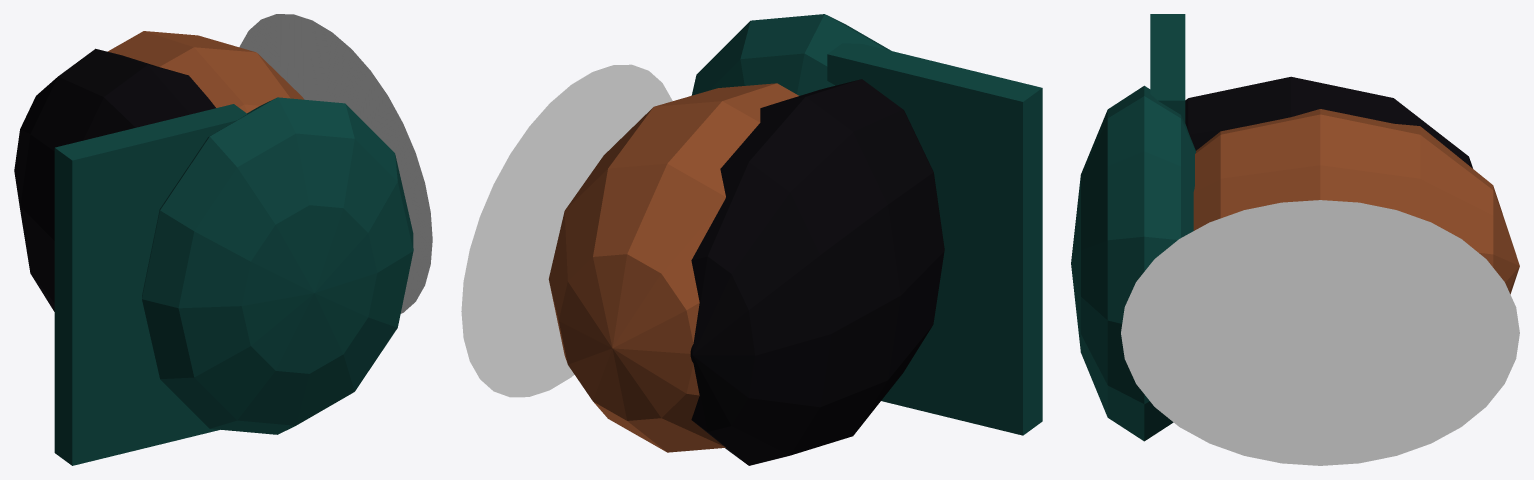
File: Resident3Head.obj
3 views of the same model, side by side, from view 1: azimuth 30°, elevation 25°; view 2: azimuth 150°, elevation 25°; view 3: azimuth 270°, elevation 25° (orthographic). The views are drawn at different scales.
Visible parts, largest first — view 1: Resident3Head; view 2: Resident3Head; view 3: Resident3Head.
Part boxes in pixels (x1,y1,x2,y2): Resident3Head: [14, 14, 432, 465]; Resident3Head: [461, 14, 1042, 465]; Resident3Head: [1071, 14, 1519, 465].
Size of the model in its own units: 67.5 by 63 by 76.5.
